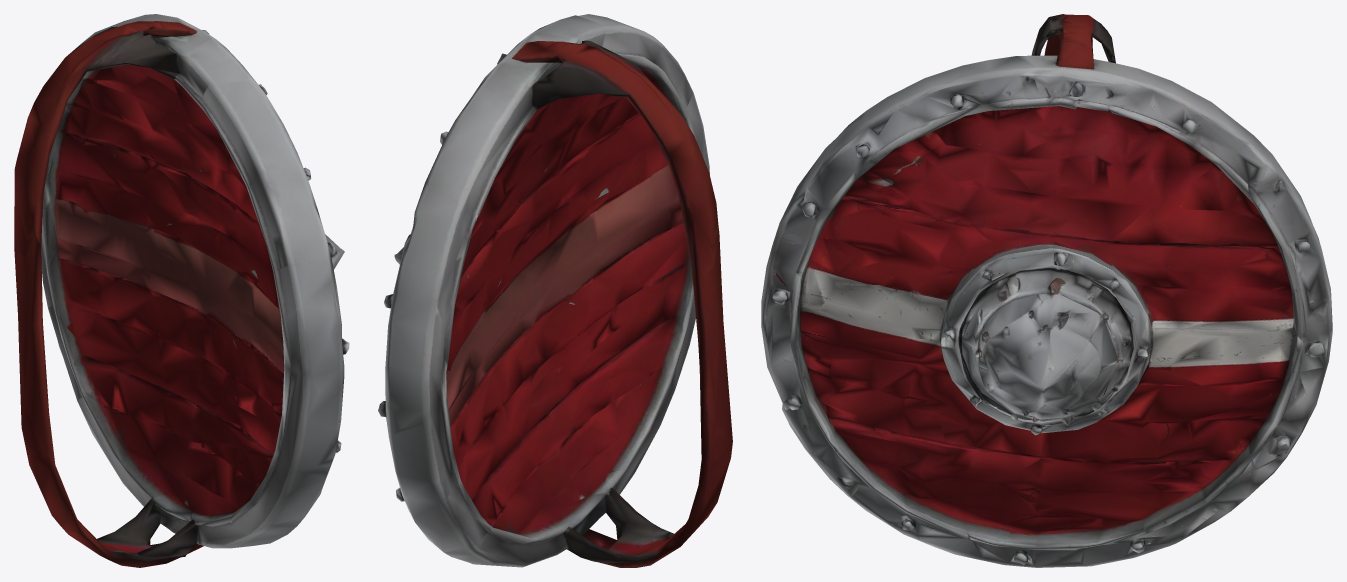
The model's file is round-shield.glb.
3 views of the same model, side by side, from view 1: azimuth 30°, elevation 25°; view 2: azimuth 150°, elevation 25°; view 3: azimuth 270°, elevation 25° (orthographic). The views are drawn at different scales.
Parts seen in each view (by area): view 1: round-shield; view 2: round-shield; view 3: round-shield.
Boxes of the visible parts, x1,y1,x2,y2 form: round-shield: (14,14,349,567); round-shield: (378,14,732,567); round-shield: (761,14,1332,567).
Bounding box in the file's own units: 0.4515 × 0.7002 × 0.688.
Materials: 1 (1 with a texture image).
